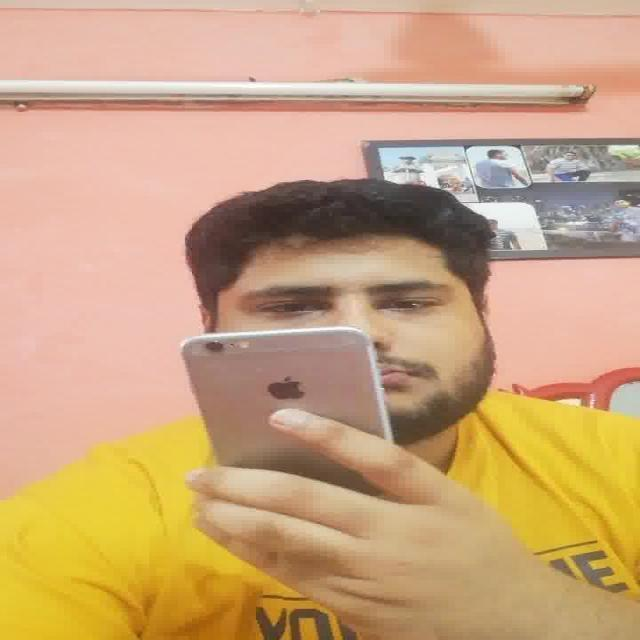Phone: (180, 324, 388, 474)
